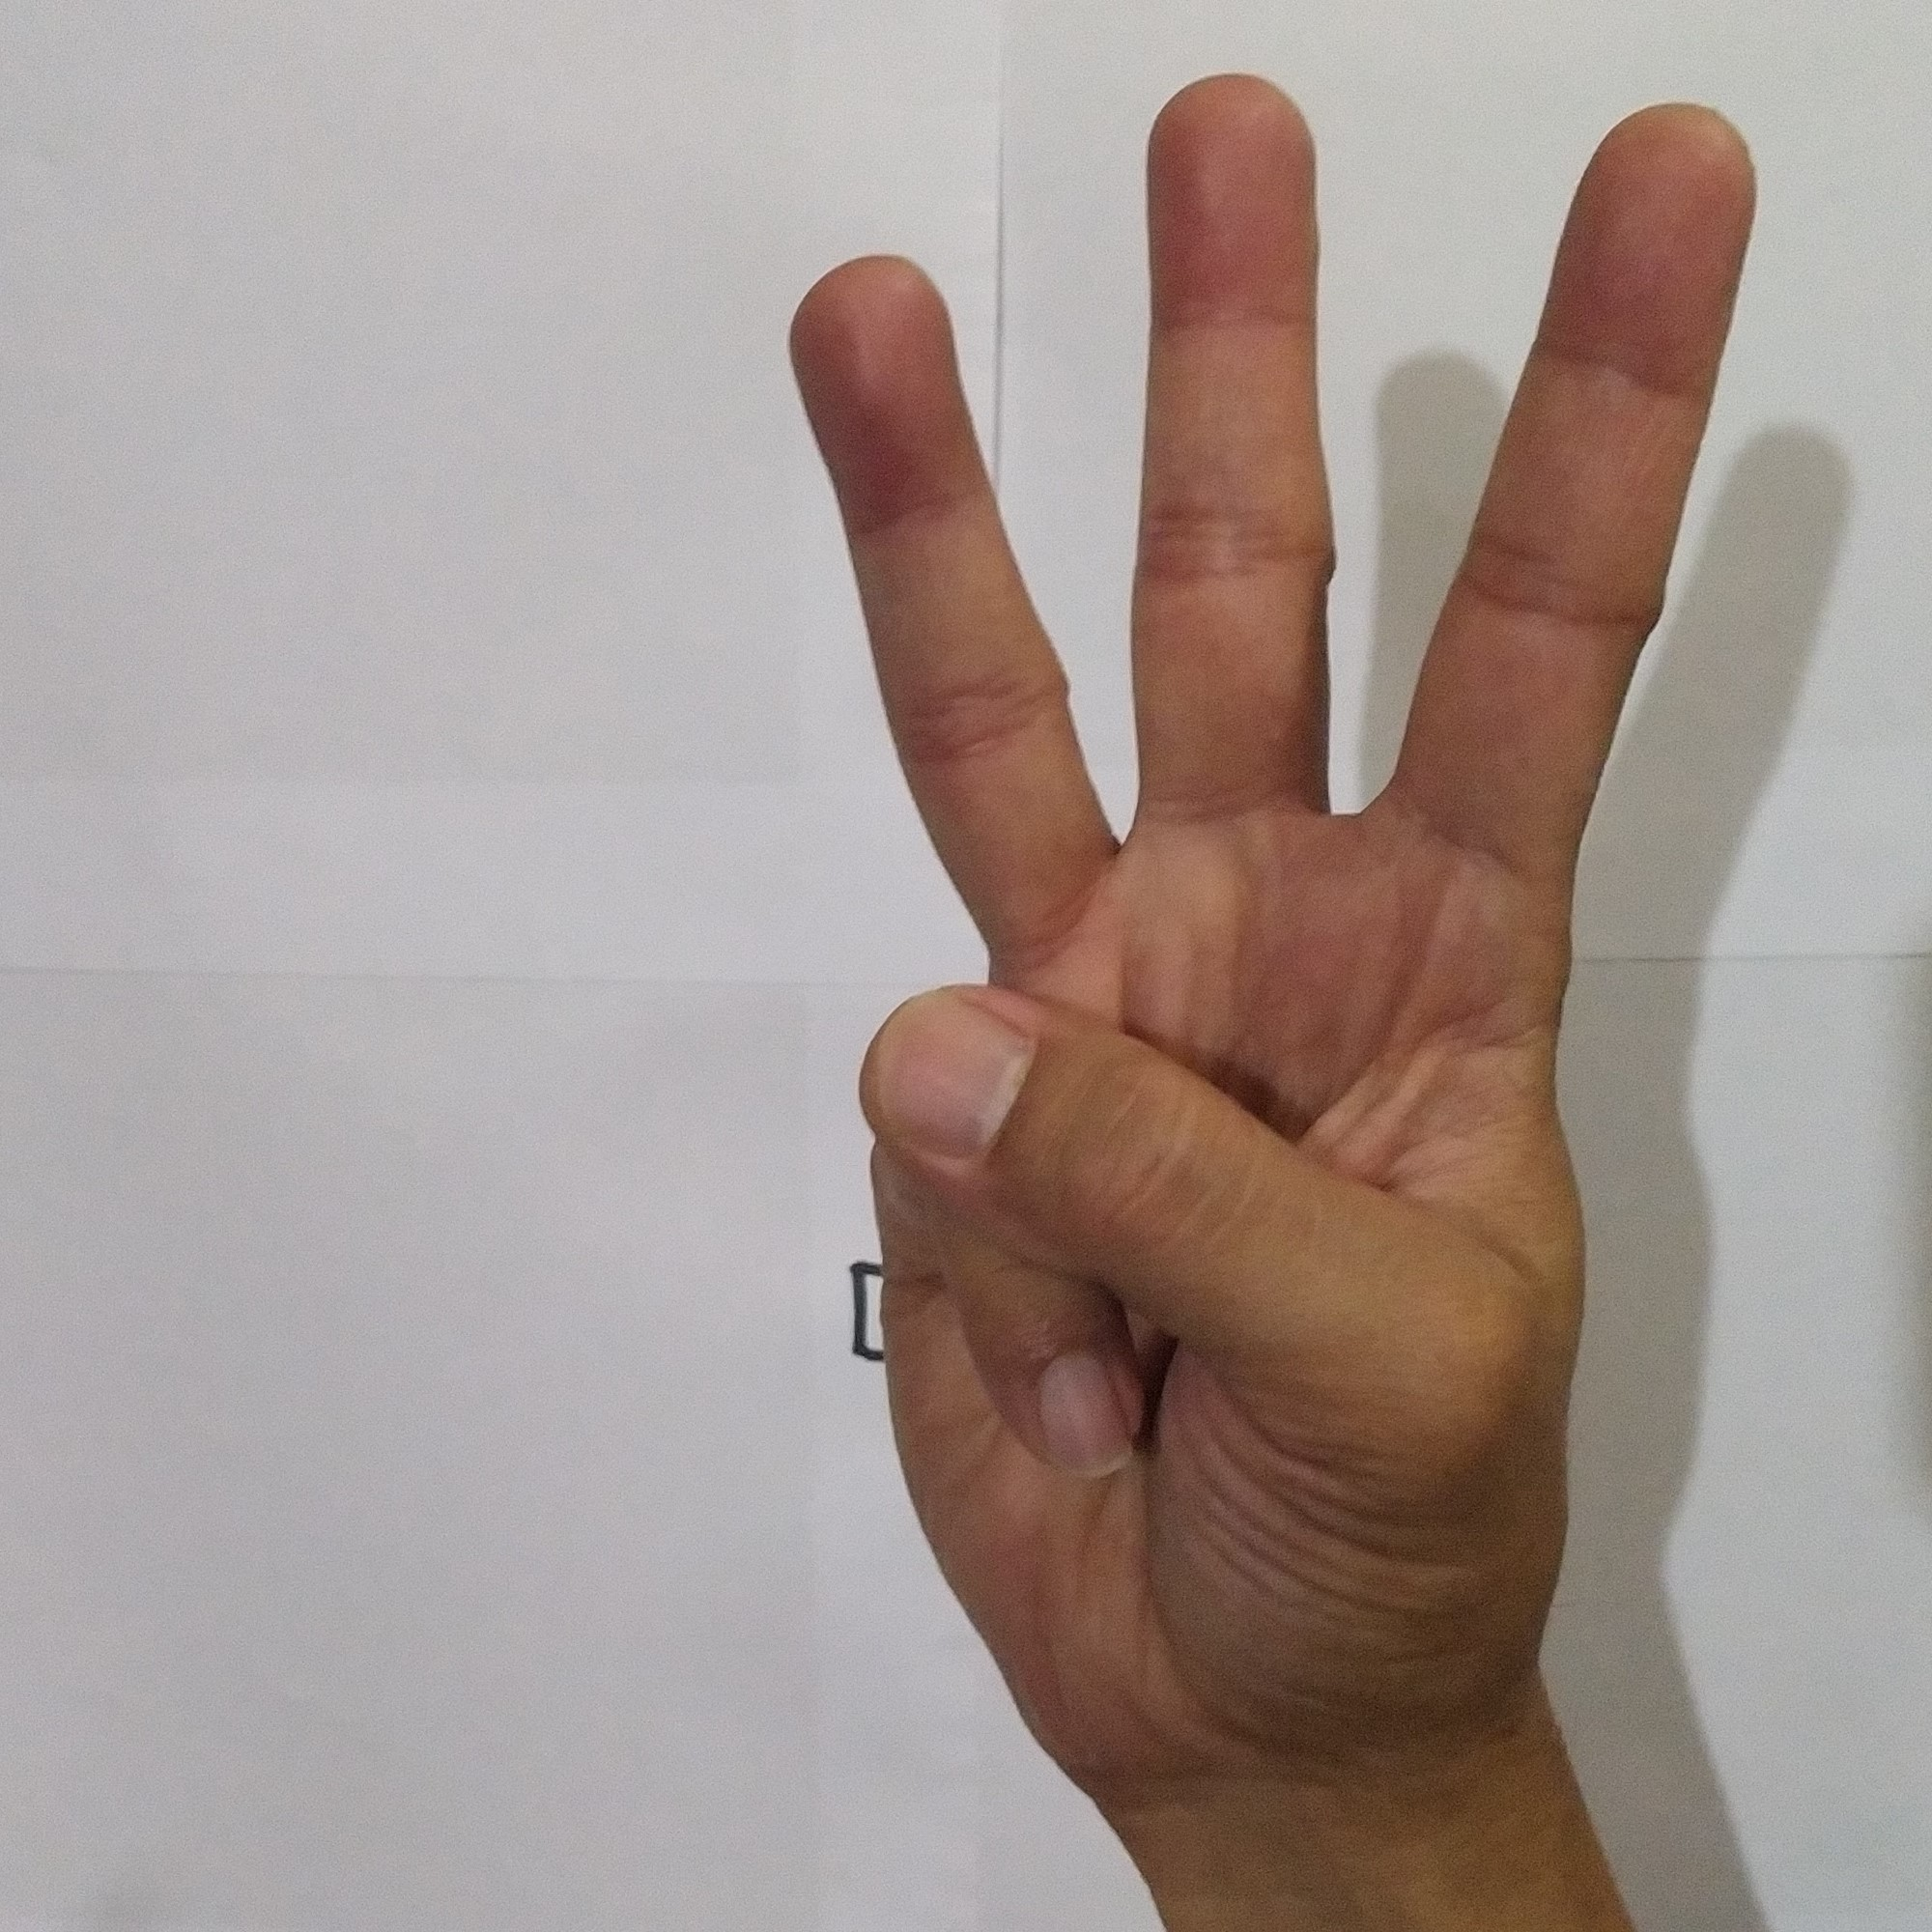W: (755, 51, 1792, 1776)
